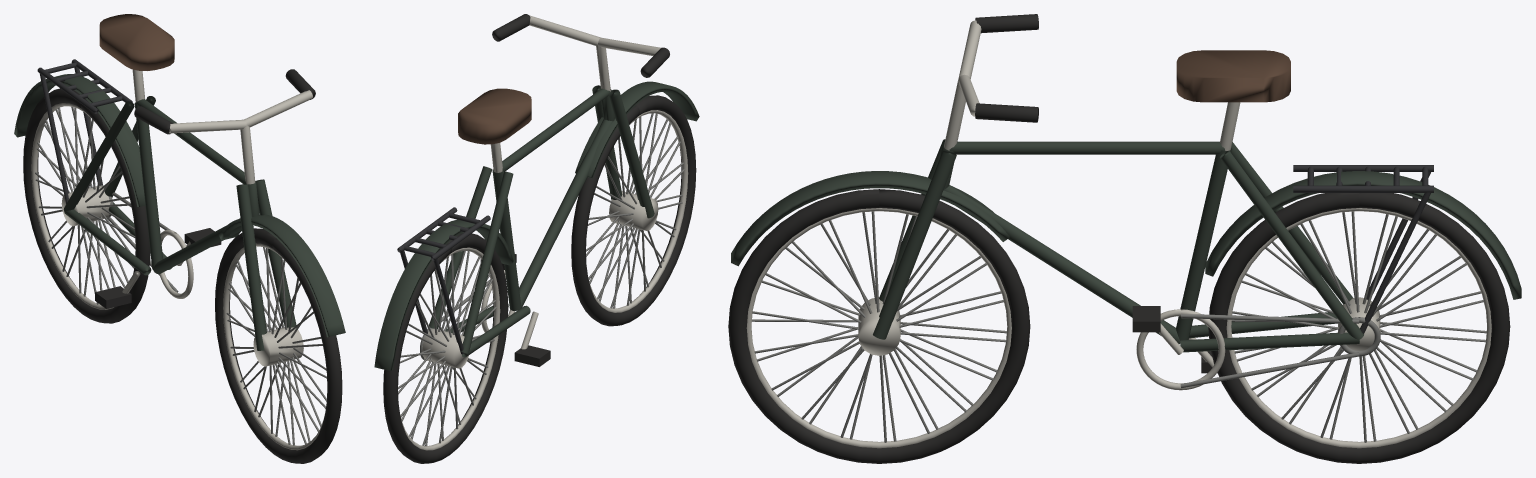
Rendered from tourenrad.glb.
3 renders of one model, left to right at view 1: azimuth 30°, elevation 25°; view 2: azimuth 150°, elevation 25°; view 3: azimuth 270°, elevation 25°, orthographic. The views are drawn at different scales.
Visible parts, largest first — view 1: Modell, Vorderrad, Hinterrad; view 2: Modell, Vorderrad, Hinterrad; view 3: Modell, Vorderrad, Hinterrad.
Part boxes in pixels (x1,y1,x2,y2): Modell: (14,14,345,350); Vorderrad: (215,228,342,463); Hinterrad: (23,88,150,323); Modell: (374,14,699,370); Vorderrad: (571,95,696,326); Hinterrad: (383,233,508,463); Modell: (731,14,1521,390); Vorderrad: (728,189,1030,463); Hinterrad: (1208,193,1510,463).
Bounding box in the file's own units: 0.5356 × 1.01 × 1.8.
